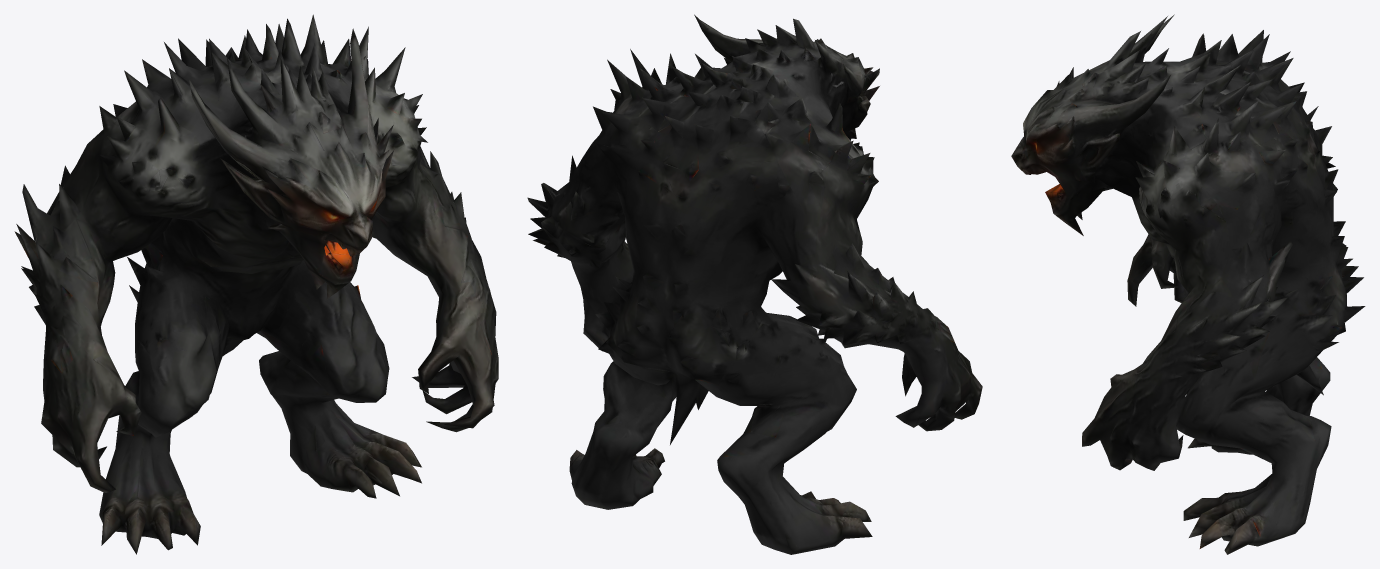
The model's file is Berserker.glb.
The picture shows the model from 3 angles, left to right: view 1: azimuth 30°, elevation 25°; view 2: azimuth 150°, elevation 25°; view 3: azimuth 270°, elevation 25°; orthographic projection. The views are drawn at different scales.
Parts seen in each view (by area): view 1: Mesh1.0; view 2: Mesh1.0; view 3: Mesh1.0.
Boxes of the visible parts, left/top/right/bottom form: Mesh1.0: left=14, top=14, right=498, bottom=554; Mesh1.0: left=527, top=14, right=982, bottom=554; Mesh1.0: left=1011, top=14, right=1365, bottom=554.
Bounding box in the file's own units: 1.85 × 2 × 1.45.
Materials: 1 (1 with a texture image).
